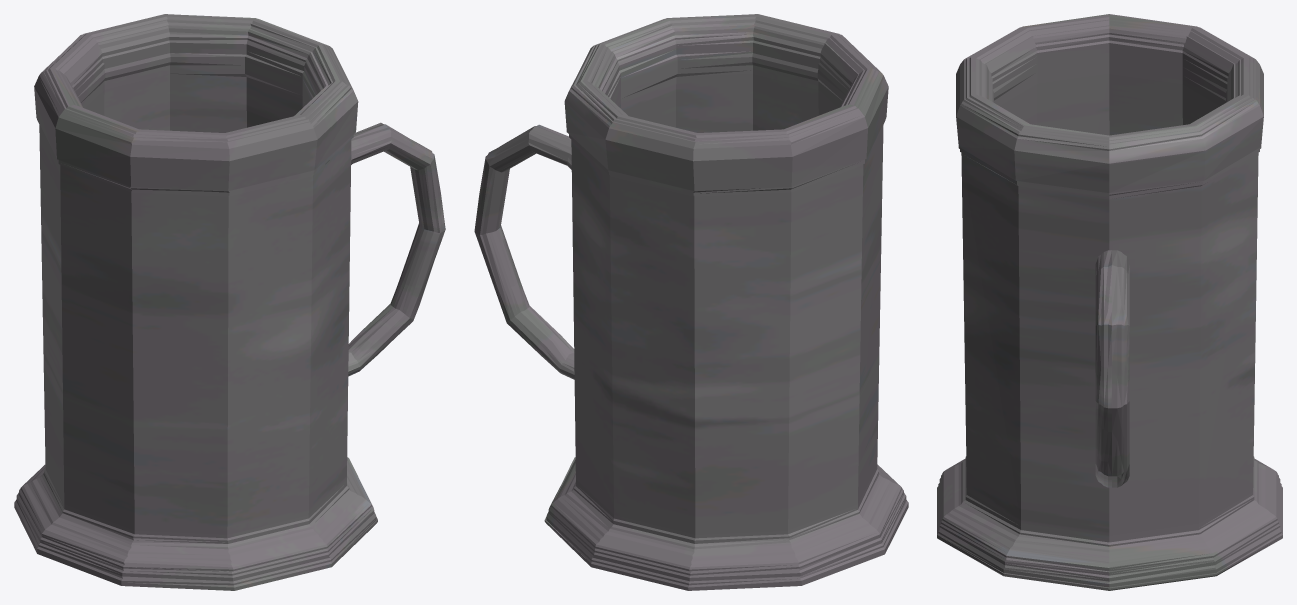
File: Mug.glb
3 views of the same model, side by side, from view 1: azimuth 30°, elevation 25°; view 2: azimuth 150°, elevation 25°; view 3: azimuth 270°, elevation 25° (orthographic).
Visible parts, largest first — view 1: Mug; view 2: Mug; view 3: Mug.
Part boxes in pixels (bbox=[...]): Mug: bbox=[14, 14, 445, 590]; Mug: bbox=[474, 14, 908, 590]; Mug: bbox=[937, 14, 1282, 590].
Bounding box in the file's own units: 208 × 216 × 154.
1 material, 1 textured.
